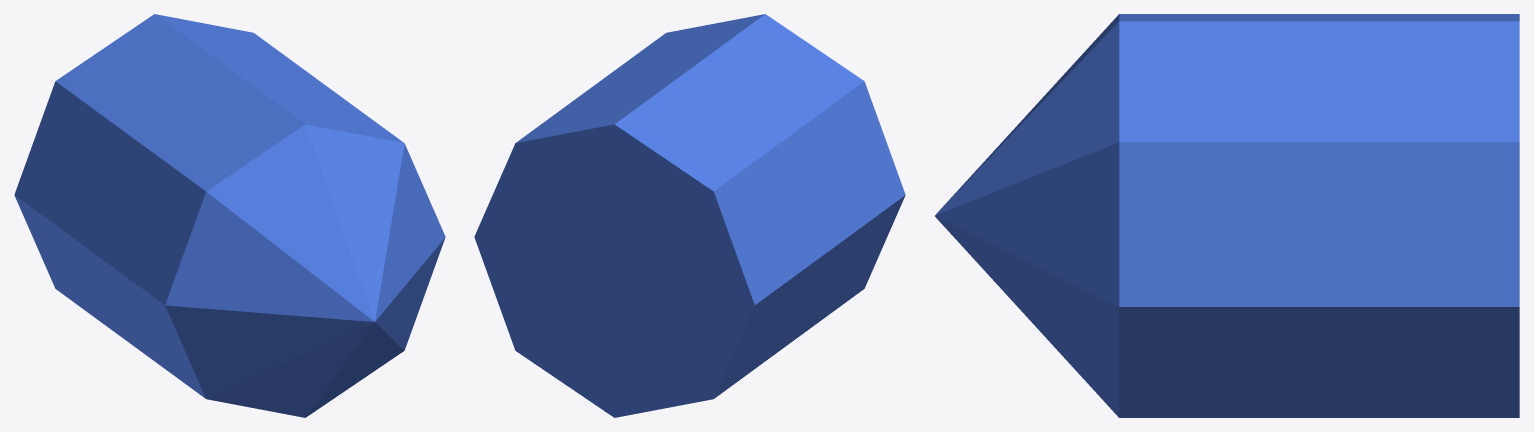
Rendered from crystal_power_box_crystal.fbx.
3 views of the same model, side by side, from view 1: azimuth 30°, elevation 25°; view 2: azimuth 150°, elevation 25°; view 3: azimuth 270°, elevation 25° (orthographic). The views are drawn at different scales.
Parts seen in each view (by area): view 1: crystal; view 2: crystal; view 3: crystal.
Boxes of the visible parts, bbox=[...] form: crystal: bbox=[14, 14, 445, 417]; crystal: bbox=[474, 14, 905, 417]; crystal: bbox=[935, 14, 1519, 417].
Bounding box in the file's own units: 52.9 × 52.9 × 72.
